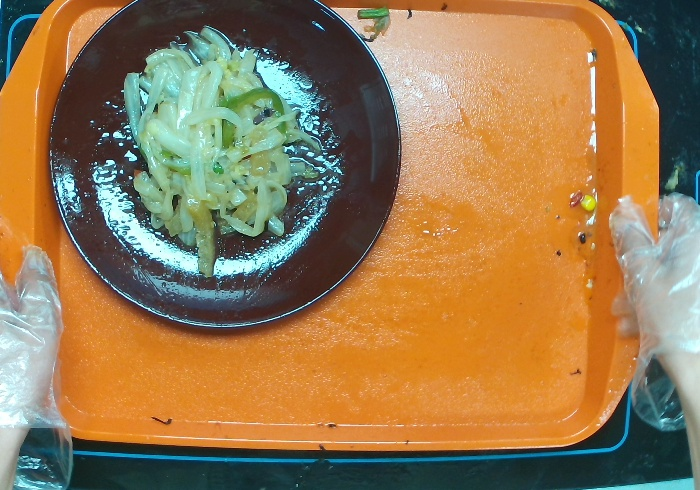HZYJPL-Ka_Fei_Yuan_Pan: (40, 1, 403, 336)
